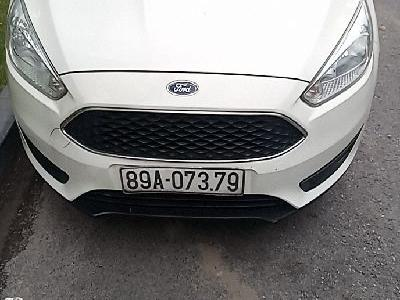car: (120, 164, 247, 198)
